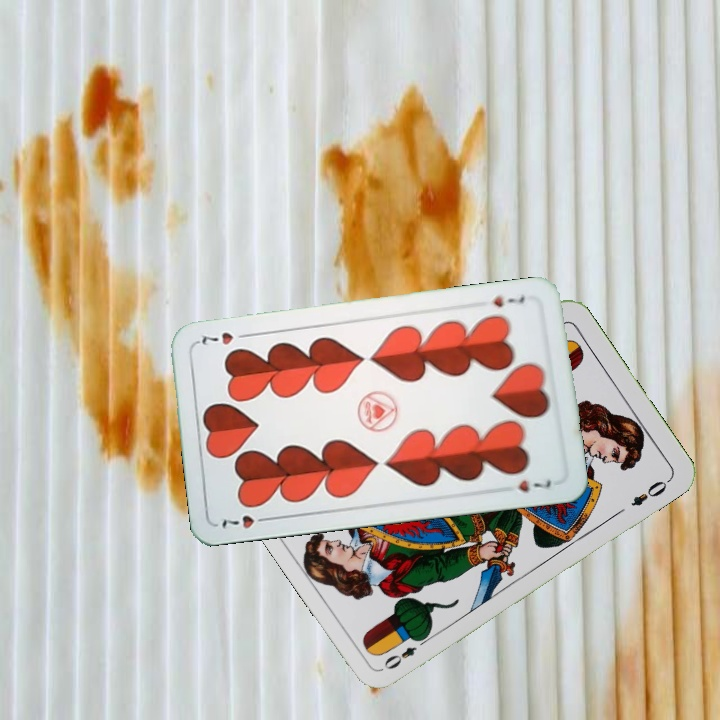EO: (379, 632, 431, 673)
H7: (218, 511, 274, 532), (489, 289, 527, 310)
